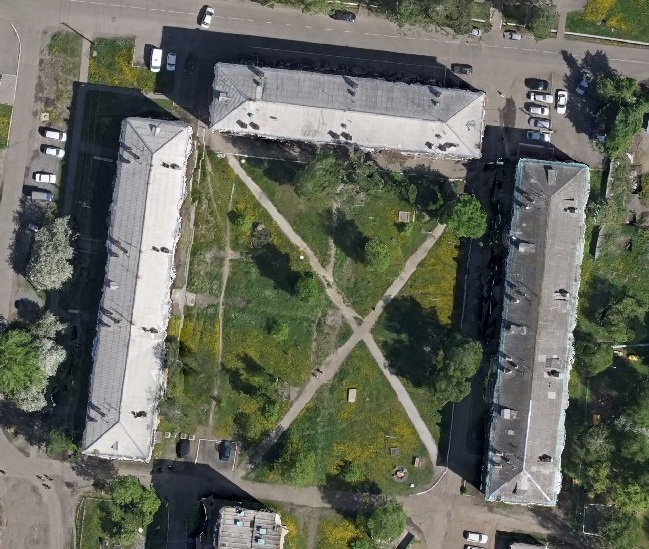build: (472, 155, 596, 510), (79, 113, 201, 460), (209, 57, 491, 173), (194, 490, 283, 549)
